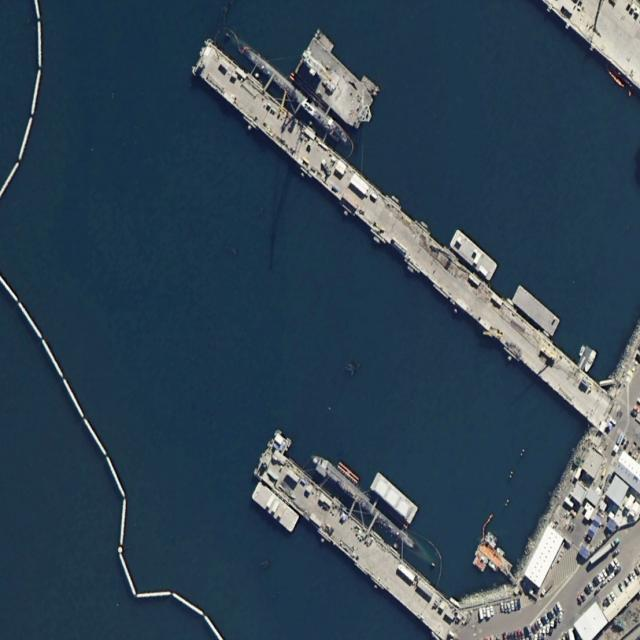Submarine: (221, 27, 353, 150), (307, 449, 438, 568)
